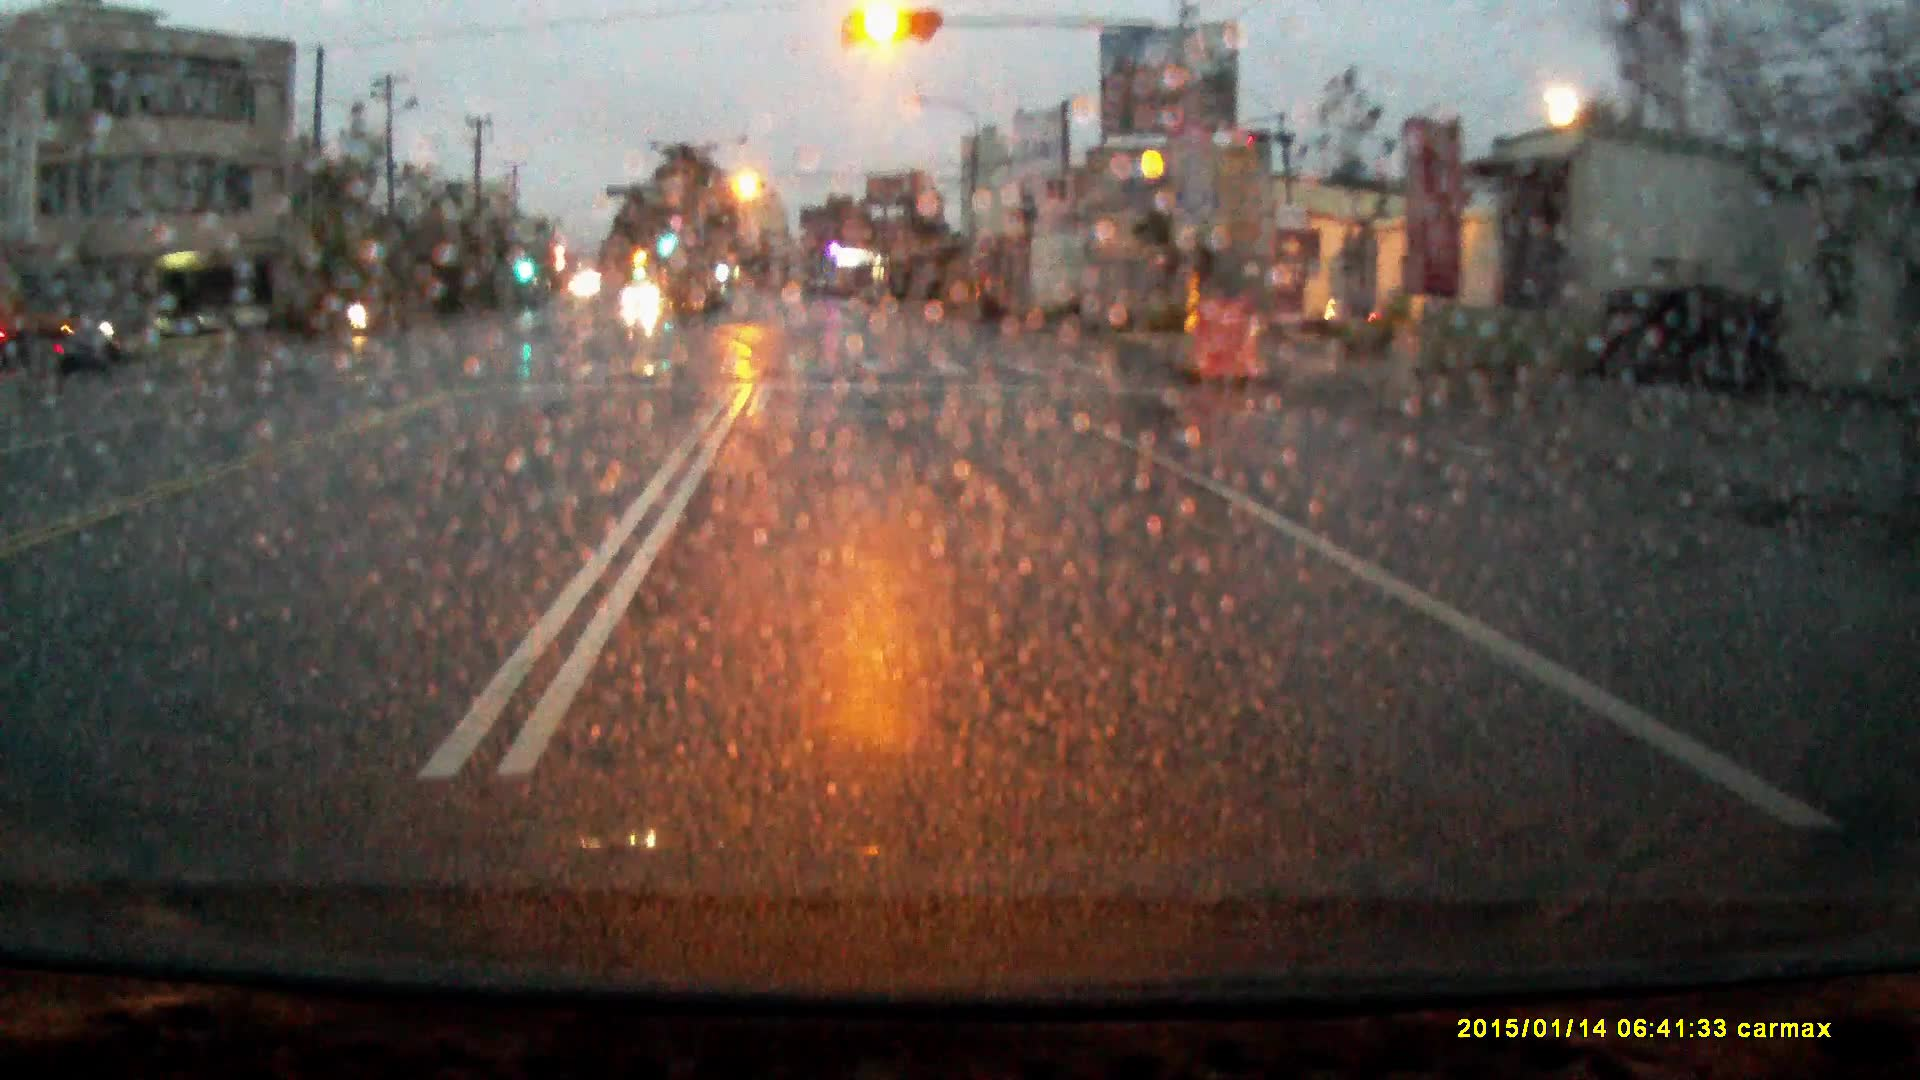rider: (346, 277, 373, 335)
vehicle: (622, 283, 663, 311)
